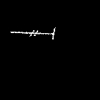treble_crochet: (11, 29, 54, 38)
